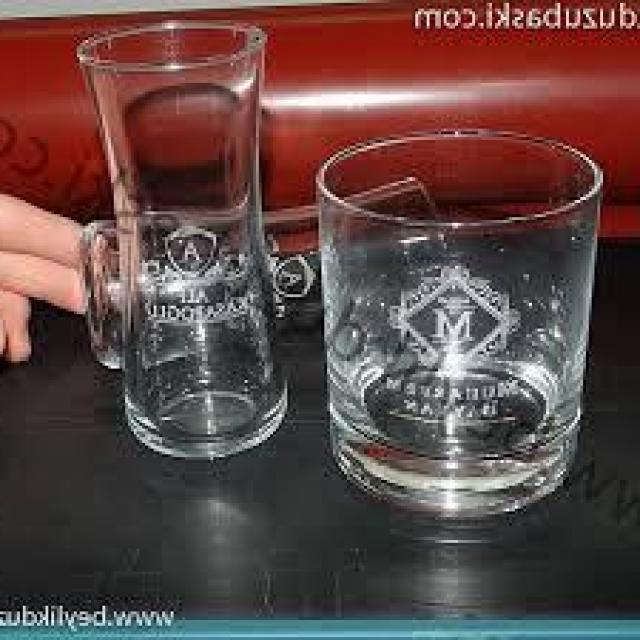glass: (313, 128, 606, 523), (76, 17, 294, 466)
